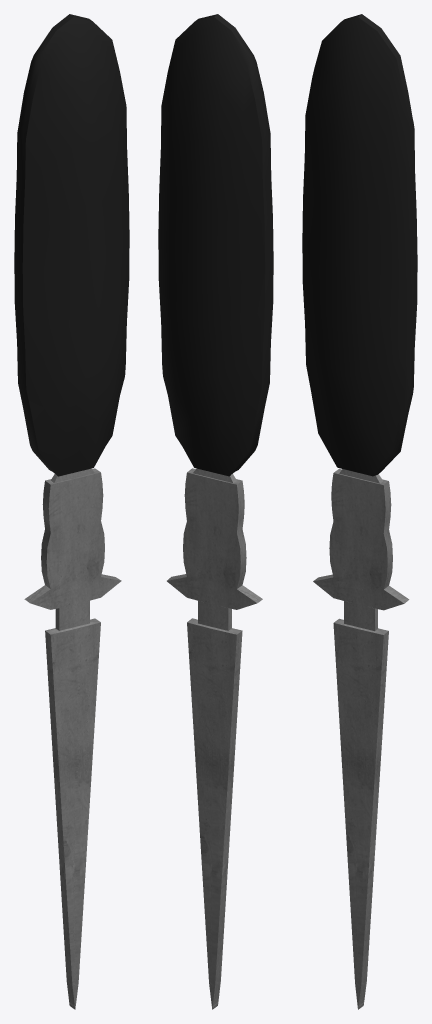
The model's file is CuchilloPalanca.fbx.
3 renders of one model, left to right at view 1: azimuth 30°, elevation 25°; view 2: azimuth 150°, elevation 25°; view 3: azimuth 330°, elevation 25°, orthographic.
Visible parts, largest first — view 1: Cuchillo; view 2: Cuchillo; view 3: Cuchillo.
Boxes of the visible parts, x1,y1,x2,y2 form: Cuchillo: (14,14,129,1009); Cuchillo: (158,14,273,1009); Cuchillo: (302,14,417,1009).
Size of the model in its own units: 14.53 by 126 by 6.63.
1 material, 1 textured.
